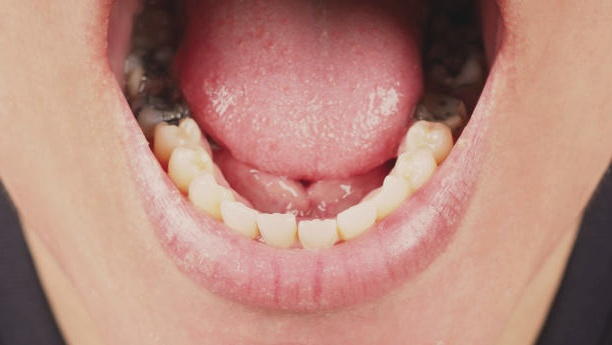Caries: (128, 47, 186, 130), (406, 88, 478, 135)
